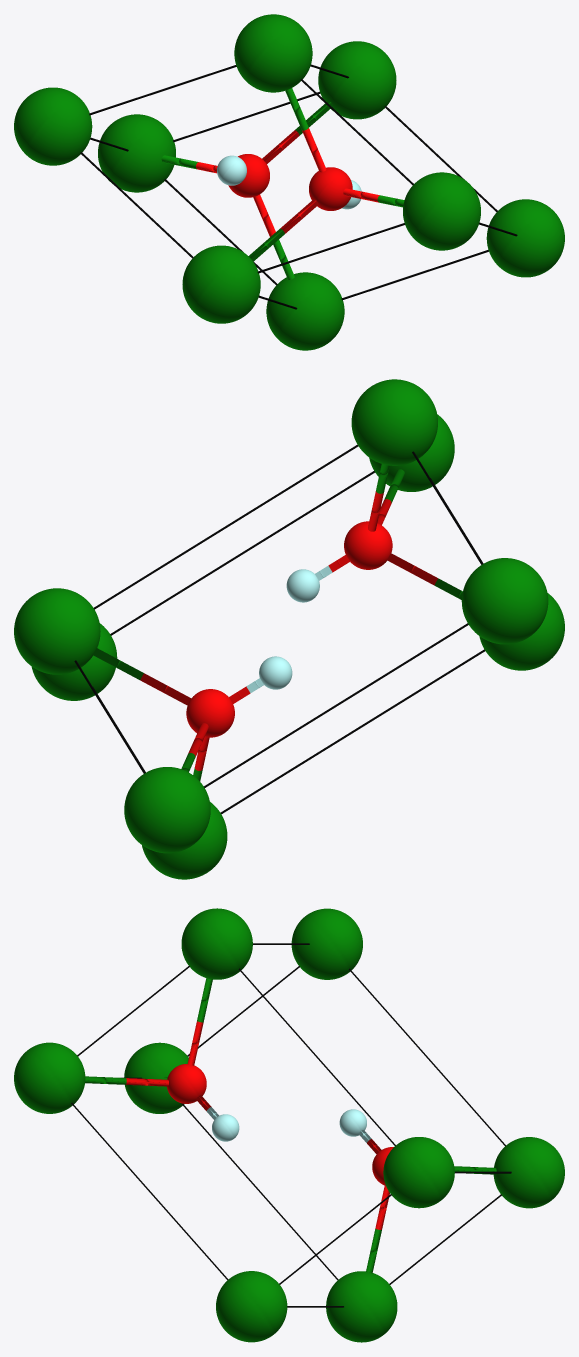
The picture shows the model from 3 angles, top to bottom: view 1: azimuth 30°, elevation 25°; view 2: azimuth 150°, elevation 25°; view 3: azimuth 270°, elevation 25°; orthographic projection. The views are drawn at different scales.
Parts seen in each view (by area): view 1: UnitCellSegment_0; view 2: UnitCellSegment_0; view 3: UnitCellSegment_0.
Boxes of the visible parts, x1,y1,x2,y2 form: UnitCellSegment_0: [14, 14, 564, 350]; UnitCellSegment_0: [14, 379, 564, 879]; UnitCellSegment_0: [14, 908, 564, 1342].
Bounding box in the file's own units: 0.7659 × 0.6073 × 0.8025.
